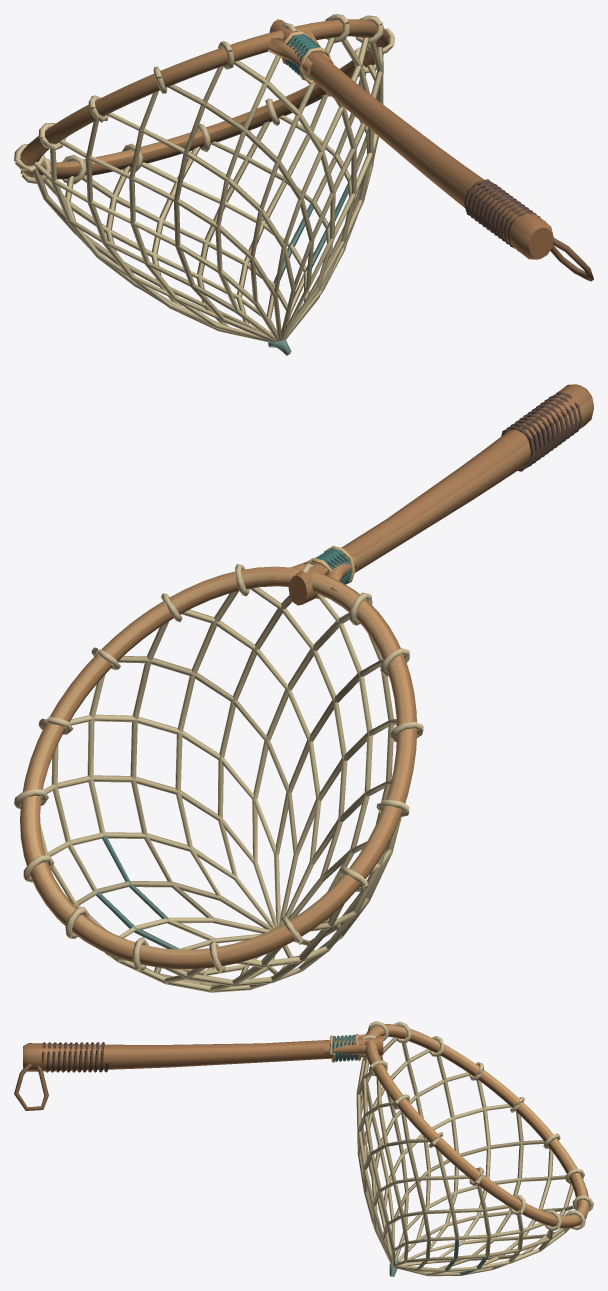
The model's file is field_net.glb.
The picture shows the model from 3 angles, top to bottom: view 1: azimuth 30°, elevation 25°; view 2: azimuth 150°, elevation 25°; view 3: azimuth 270°, elevation 25°; orthographic projection. The views are drawn at different scales.
Visible parts, largest first — view 1: SM_DipNet_KnottedBag, SM_DipNet_AshFrame, SM_DipNet_Bindings; view 2: SM_DipNet_KnottedBag, SM_DipNet_AshFrame, SM_DipNet_Bindings; view 3: SM_DipNet_KnottedBag, SM_DipNet_AshFrame, SM_DipNet_Bindings.
Part boxes in pixels (bbox=[...]): SM_DipNet_KnottedBag: bbox=[32, 37, 383, 355]; SM_DipNet_AshFrame: bbox=[20, 19, 553, 259]; SM_DipNet_Bindings: bbox=[14, 14, 593, 281]; SM_DipNet_KnottedBag: bbox=[40, 587, 401, 992]; SM_DipNet_AshFrame: bbox=[20, 384, 593, 969]; SM_DipNet_Bindings: bbox=[14, 391, 581, 973]; SM_DipNet_KnottedBag: bbox=[356, 1037, 573, 1276]; SM_DipNet_AshFrame: bbox=[23, 1024, 589, 1228]; SM_DipNet_Bindings: bbox=[14, 1021, 593, 1230].
Bounding box in the file's own units: 0.4377 × 0.4234 × 0.9385.
1 material, 1 textured.
